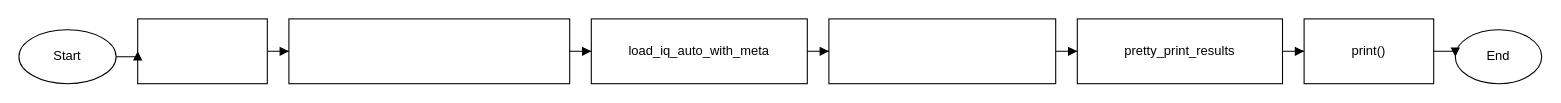
Some shapes in this 1561 by 103 pixel diagram are drawn without their labels. The centre of each missing label's shape, as x and y in pixels:
analyze_lte_iq (auto config): the point at 942,51
argparse: input, key, no-bruteforce, limit: the point at 429,51
main(): the point at 202,51
